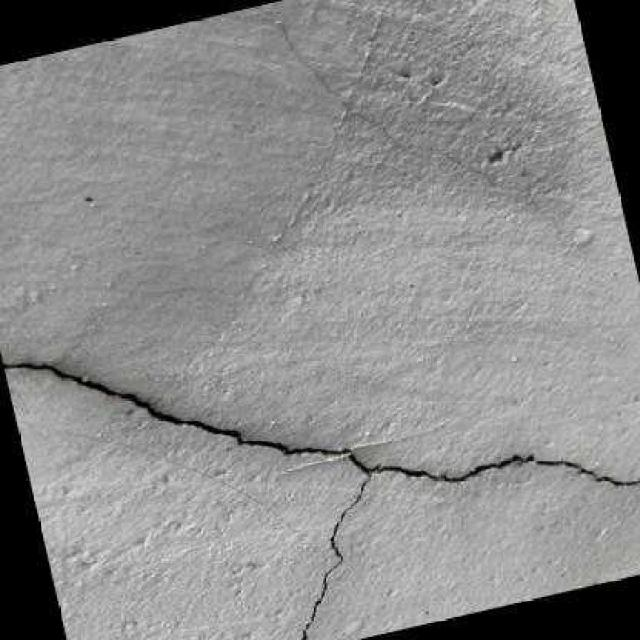D00: (2, 363, 640, 640)
